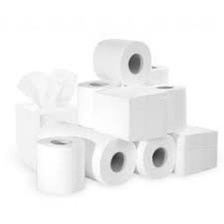tissue: (10, 61, 83, 176), (39, 113, 141, 192), (30, 132, 89, 200), (88, 34, 155, 87), (164, 121, 223, 180), (139, 80, 191, 137), (72, 73, 118, 128), (133, 131, 180, 182), (143, 59, 172, 87)
